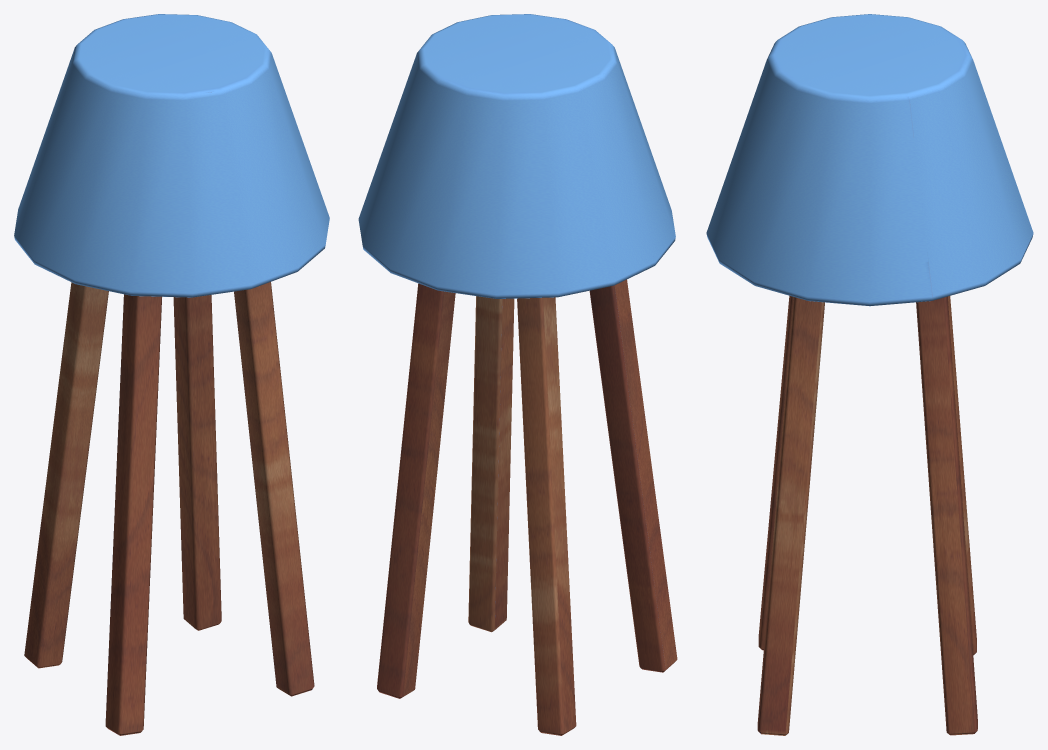
File: standlight.fbx
The picture shows the model from 3 angles, left to right: view 1: azimuth 30°, elevation 25°; view 2: azimuth 150°, elevation 25°; view 3: azimuth 270°, elevation 25°; orthographic projection. The views are drawn at different scales.
Parts seen in each view (by area): view 1: pCylinder3, polySurface33; view 2: pCylinder3, polySurface33; view 3: pCylinder3, polySurface33.
Part boxes in pixels (x1,y1,x2,y2): pCylinder3: (14, 14, 329, 297); polySurface33: (24, 282, 314, 735); pCylinder3: (358, 14, 675, 298); polySurface33: (377, 279, 677, 735); pCylinder3: (706, 14, 1033, 306); polySurface33: (757, 295, 977, 735).
Bounding box in the file's own units: 16.62 × 35.8 × 16.62.
